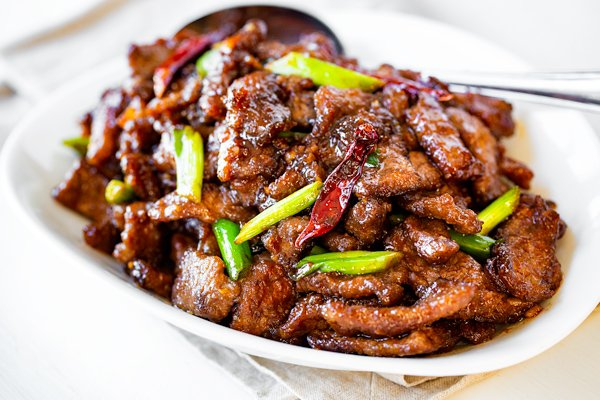sushi: (1, 10, 595, 394)
